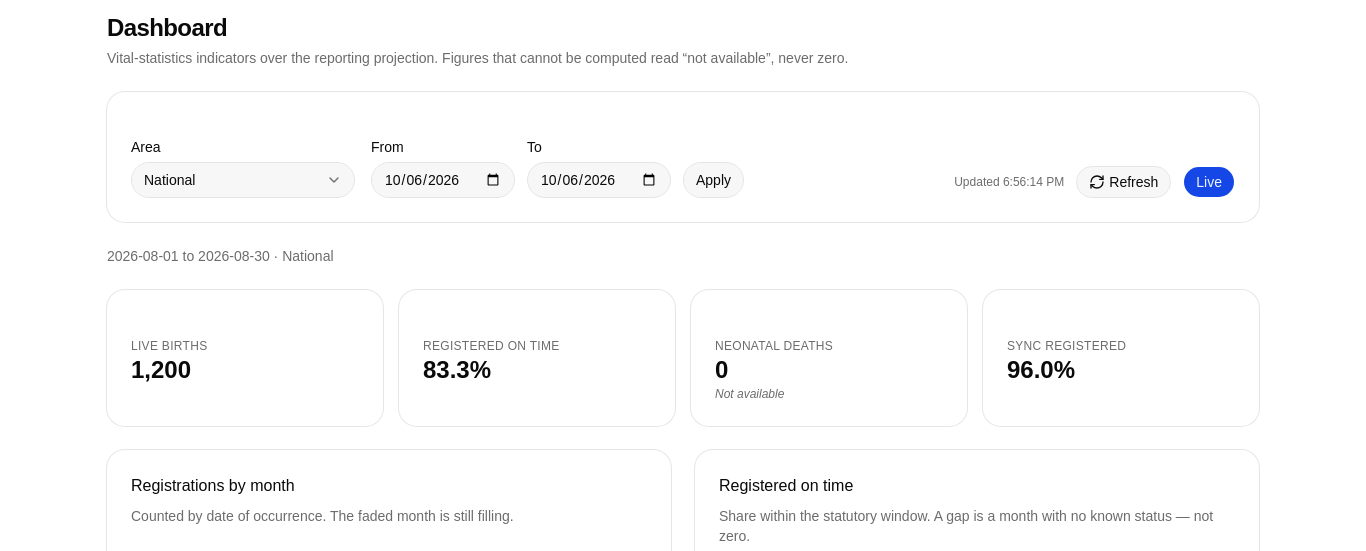
Test: Dashboard › drills into a county, sending it as the contract names it
The image size is (1366, 551).
expect the text "1,200" is shown: met, box [131,356,191,383]
What coordinates should you click on to do the following:
click the dropdown
I would click on:
 (243, 180)
Its box is [131,162,355,198].
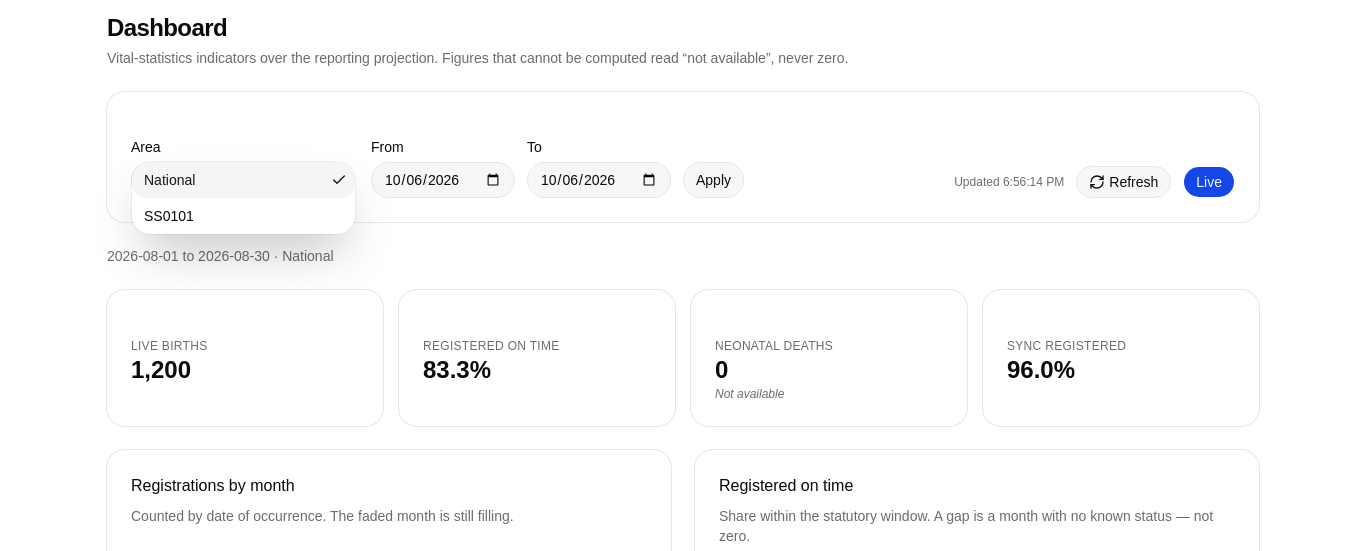
What coordinates should you click on to do the following:
click the option "SS0101"
I would click on:
 (169, 216)
Its box is [144,208,194,224].
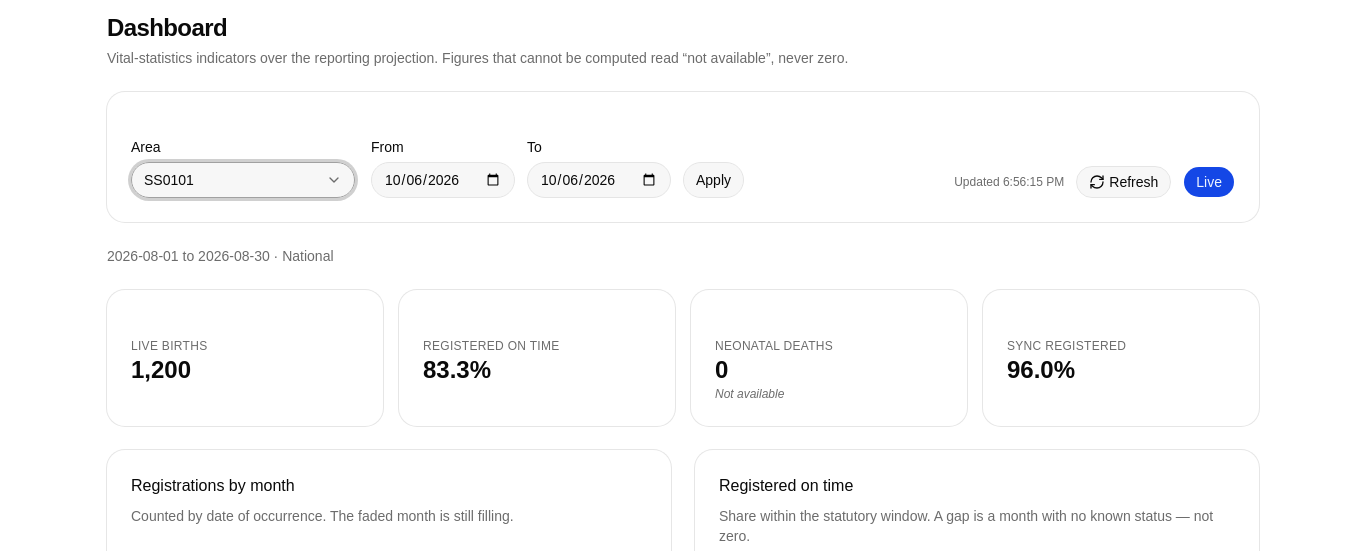
expect the text "SS0101" is shown: met, box [144,170,194,190]
